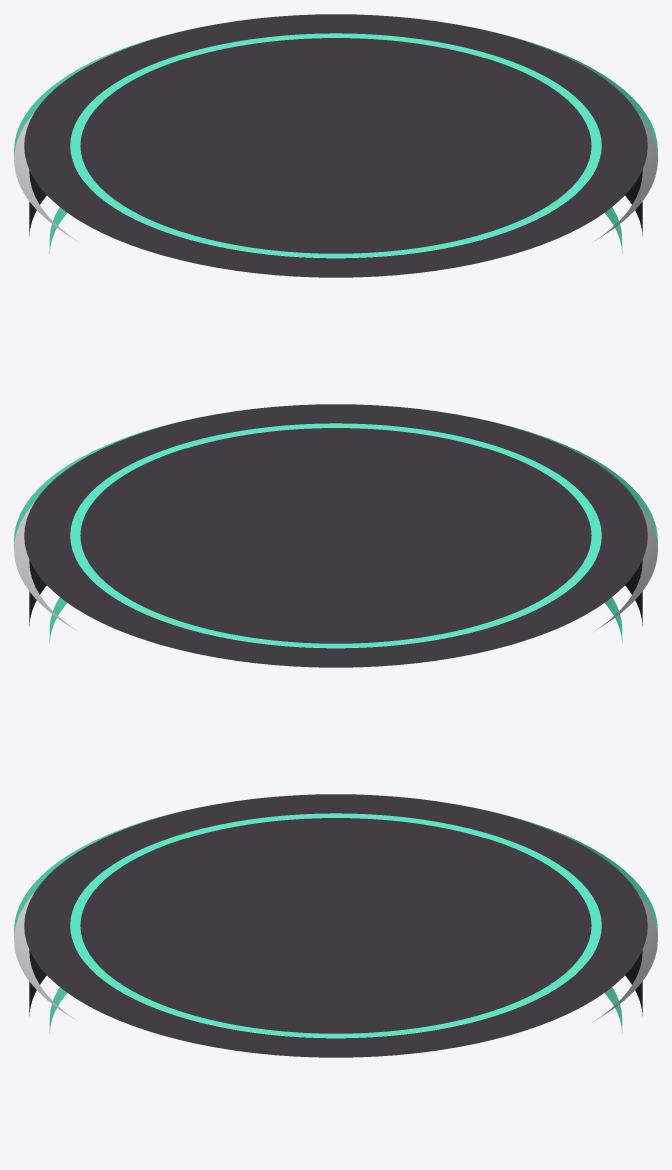
Rendered from podium2_onyx.glb.
3 views of the same model, one above another, from view 1: azimuth 30°, elevation 25°; view 2: azimuth 150°, elevation 25°; view 3: azimuth 270°, elevation 25° (orthographic).
Parts seen in each view (by area): view 1: p8, p6, p7, p3, p4, p2; view 2: p8, p6, p7, p3, p4, p2; view 3: p8, p6, p7, p3, p4, p2.
Boxes of the visible parts, box(x1,y1,x2,y2) form: p8: box(80, 38, 591, 253); p6: box(24, 14, 647, 277); p7: box(70, 33, 601, 257); p3: box(14, 37, 657, 240); p4: box(14, 24, 657, 157); p2: box(29, 58, 642, 235); p8: box(80, 428, 591, 643); p6: box(24, 404, 647, 667); p7: box(70, 423, 601, 647); p3: box(14, 427, 657, 630); p4: box(14, 414, 657, 547); p2: box(29, 448, 642, 625); p8: box(80, 818, 591, 1033); p6: box(24, 794, 647, 1057); p7: box(70, 813, 601, 1037); p3: box(14, 817, 657, 1020); p4: box(14, 804, 657, 937); p2: box(29, 838, 642, 1015).
Bounding box in the file's own units: 2.52 × 0.471 × 2.52.
